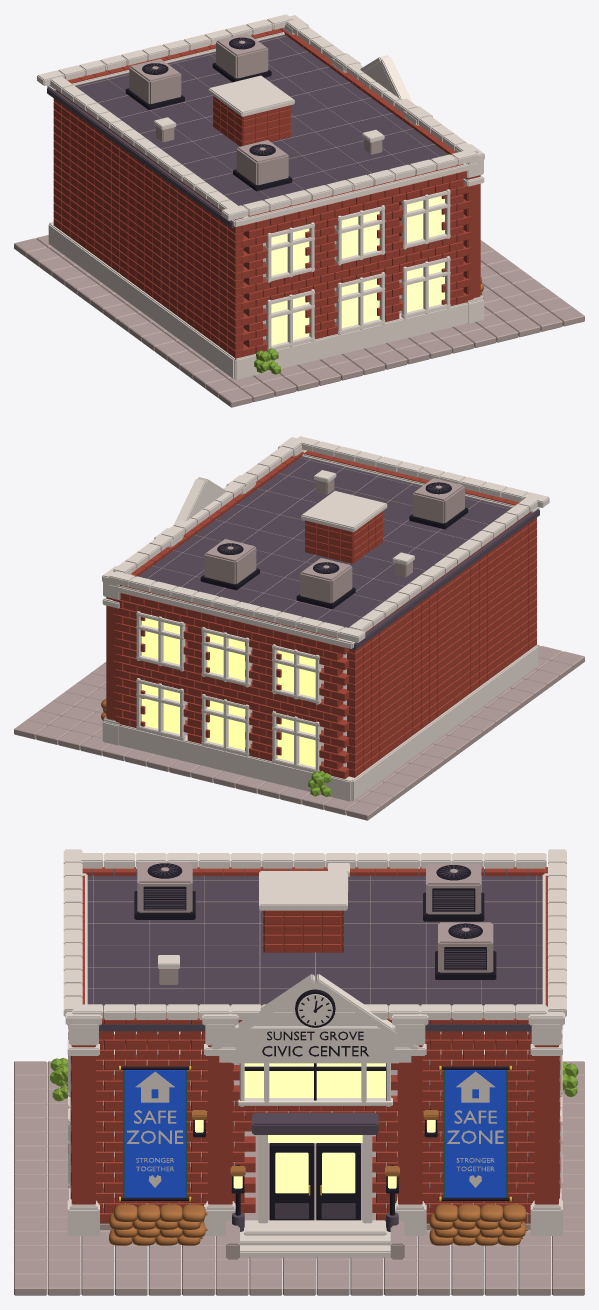
3 views of the same model, one above another, from view 1: azimuth 30°, elevation 25°; view 2: azimuth 150°, elevation 25°; view 3: azimuth 270°, elevation 25° (orthographic). The views are drawn at different scales.
Visible parts, largest first — view 1: root_pal_brick, roof_pal_asphalt, root_pal_picketWhite, root_pal_sidewalk, roof_pal_picketWhite, roof_pal_sidewalk, root_emi_windowGlow, roof_pal_brick, roof_pal_uiDark, root_pal_foliage; view 2: root_pal_brick, roof_pal_asphalt, root_pal_picketWhite, root_pal_sidewalk, roof_pal_picketWhite, roof_pal_sidewalk, root_emi_windowGlow, roof_pal_brick, roof_pal_uiDark; view 3: roof_pal_asphalt, root_pal_brick, root_pal_sidewalk, root_pal_picketWhite, roof_pal_picketWhite, root_pal_policeBlue, roof_pal_sidewalk, root_pal_woodWarm, roof_pal_uiDark, root_emi_windowGlow, roof_pal_brick, root_pal_uiDark (+8 smaller).
Part boxes in pixels (box(x1,y1,x2,y2)): root_pal_brick: box(53, 28, 480, 359); roof_pal_asphalt: box(47, 34, 448, 228); root_pal_picketWhite: box(47, 15, 484, 379); root_pal_sidewalk: box(14, 235, 584, 407); roof_pal_picketWhite: box(37, 14, 478, 220); roof_pal_sidewalk: box(76, 33, 439, 197); root_emi_windowGlow: box(271, 196, 444, 345); roof_pal_brick: box(213, 96, 290, 146); roof_pal_uiDark: box(125, 37, 292, 191); root_pal_foliage: box(254, 348, 280, 374); root_pal_brick: box(106, 450, 536, 778); roof_pal_asphalt: box(138, 456, 539, 650); root_pal_picketWhite: box(102, 437, 539, 801); root_pal_sidewalk: box(14, 644, 584, 820); roof_pal_picketWhite: box(109, 436, 549, 642); roof_pal_sidewalk: box(147, 458, 509, 619); root_emi_windowGlow: box(142, 618, 315, 767); roof_pal_brick: box(305, 511, 382, 563); roof_pal_uiDark: box(200, 482, 468, 609); roof_pal_asphalt: box(87, 864, 542, 1031); root_pal_brick: box(70, 867, 560, 1223); root_pal_sidewalk: box(14, 1061, 584, 1295); root_pal_picketWhite: box(65, 873, 564, 1258); roof_pal_picketWhite: box(63, 849, 566, 1019); root_pal_policeBlue: box(124, 1070, 505, 1197); roof_pal_sidewalk: box(87, 862, 542, 1010); root_pal_woodWarm: box(109, 1204, 527, 1245); roof_pal_uiDark: box(134, 863, 496, 979); root_emi_windowGlow: box(244, 1063, 385, 1142); roof_pal_brick: box(263, 910, 343, 952); root_pal_uiDark: box(118, 989, 512, 1200).
Bounding box in the file's own units: 13.58 × 7.39 × 14.43.
